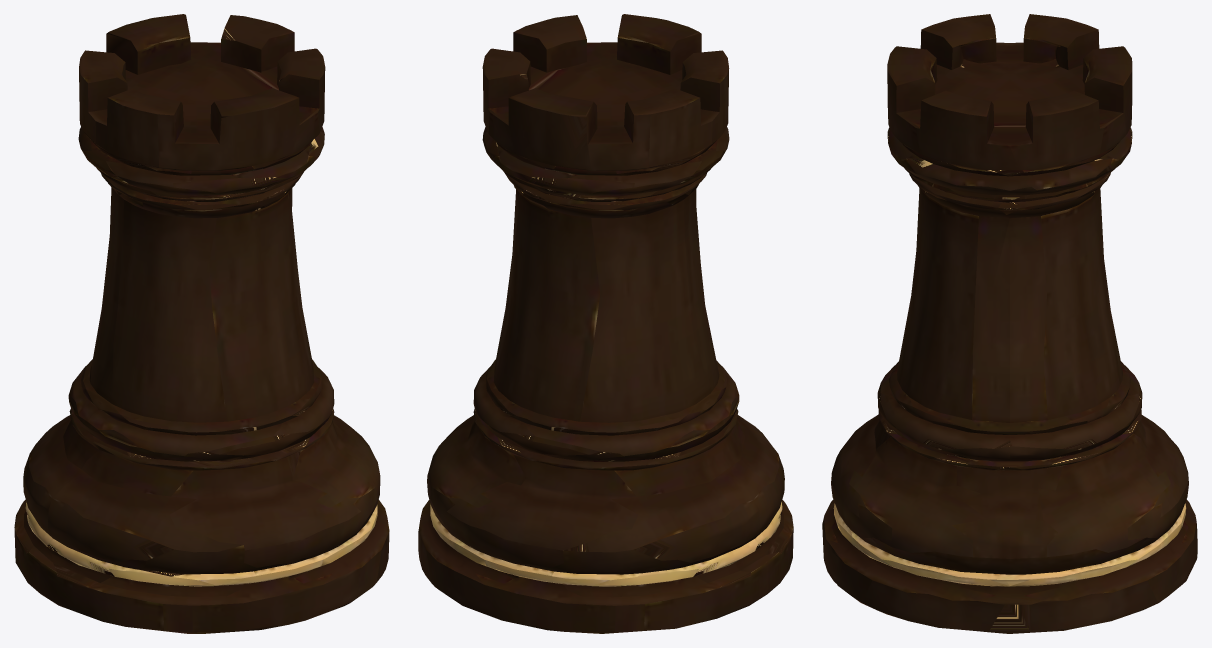
3 views of the same model, side by side, from view 1: azimuth 30°, elevation 25°; view 2: azimuth 150°, elevation 25°; view 3: azimuth 270°, elevation 25° (orthographic).
Visible parts, largest first — view 1: geometry_0; view 2: geometry_0; view 3: geometry_0.
Part boxes in pixels (left/top/right/bottom): geometry_0: left=14, top=14, right=389, bottom=633; geometry_0: left=418, top=14, right=793, bottom=633; geometry_0: left=822, top=14, right=1197, bottom=633.
Bounding box in the file's own units: 0.6926 × 1 × 0.6932.
1 material, 1 textured.
